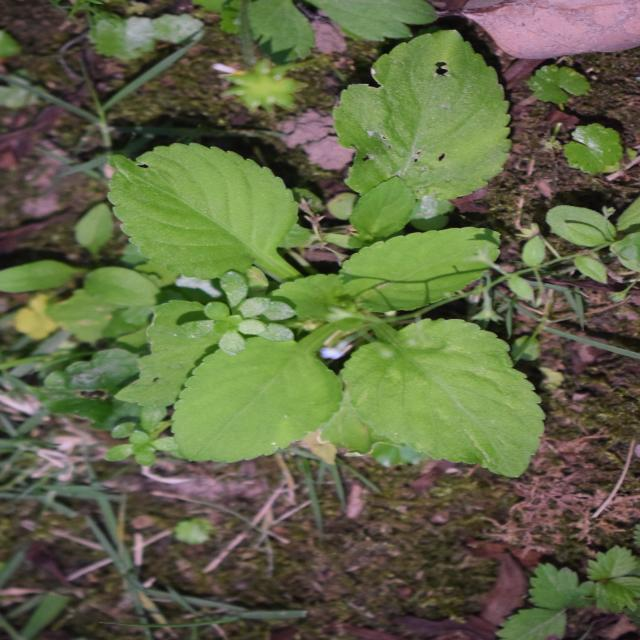Viola: (174, 111, 567, 537)
